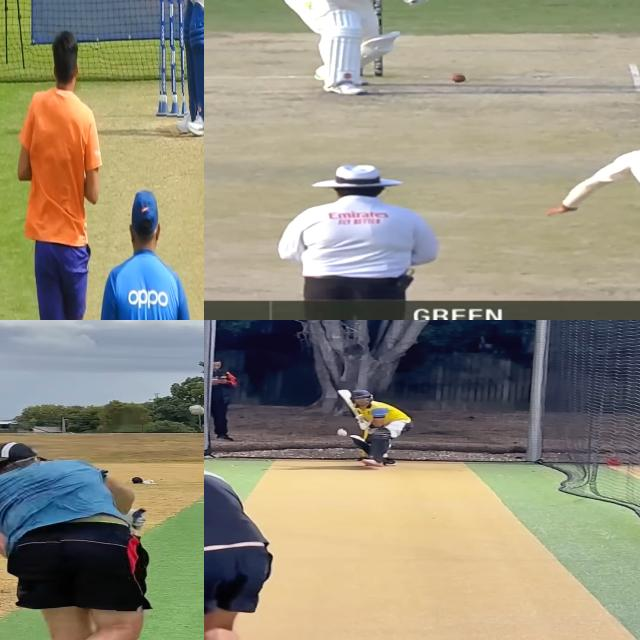Cricket ball: (185, 399, 204, 418), (449, 73, 469, 83), (337, 428, 348, 436)
Stumps: (157, 0, 184, 118)
